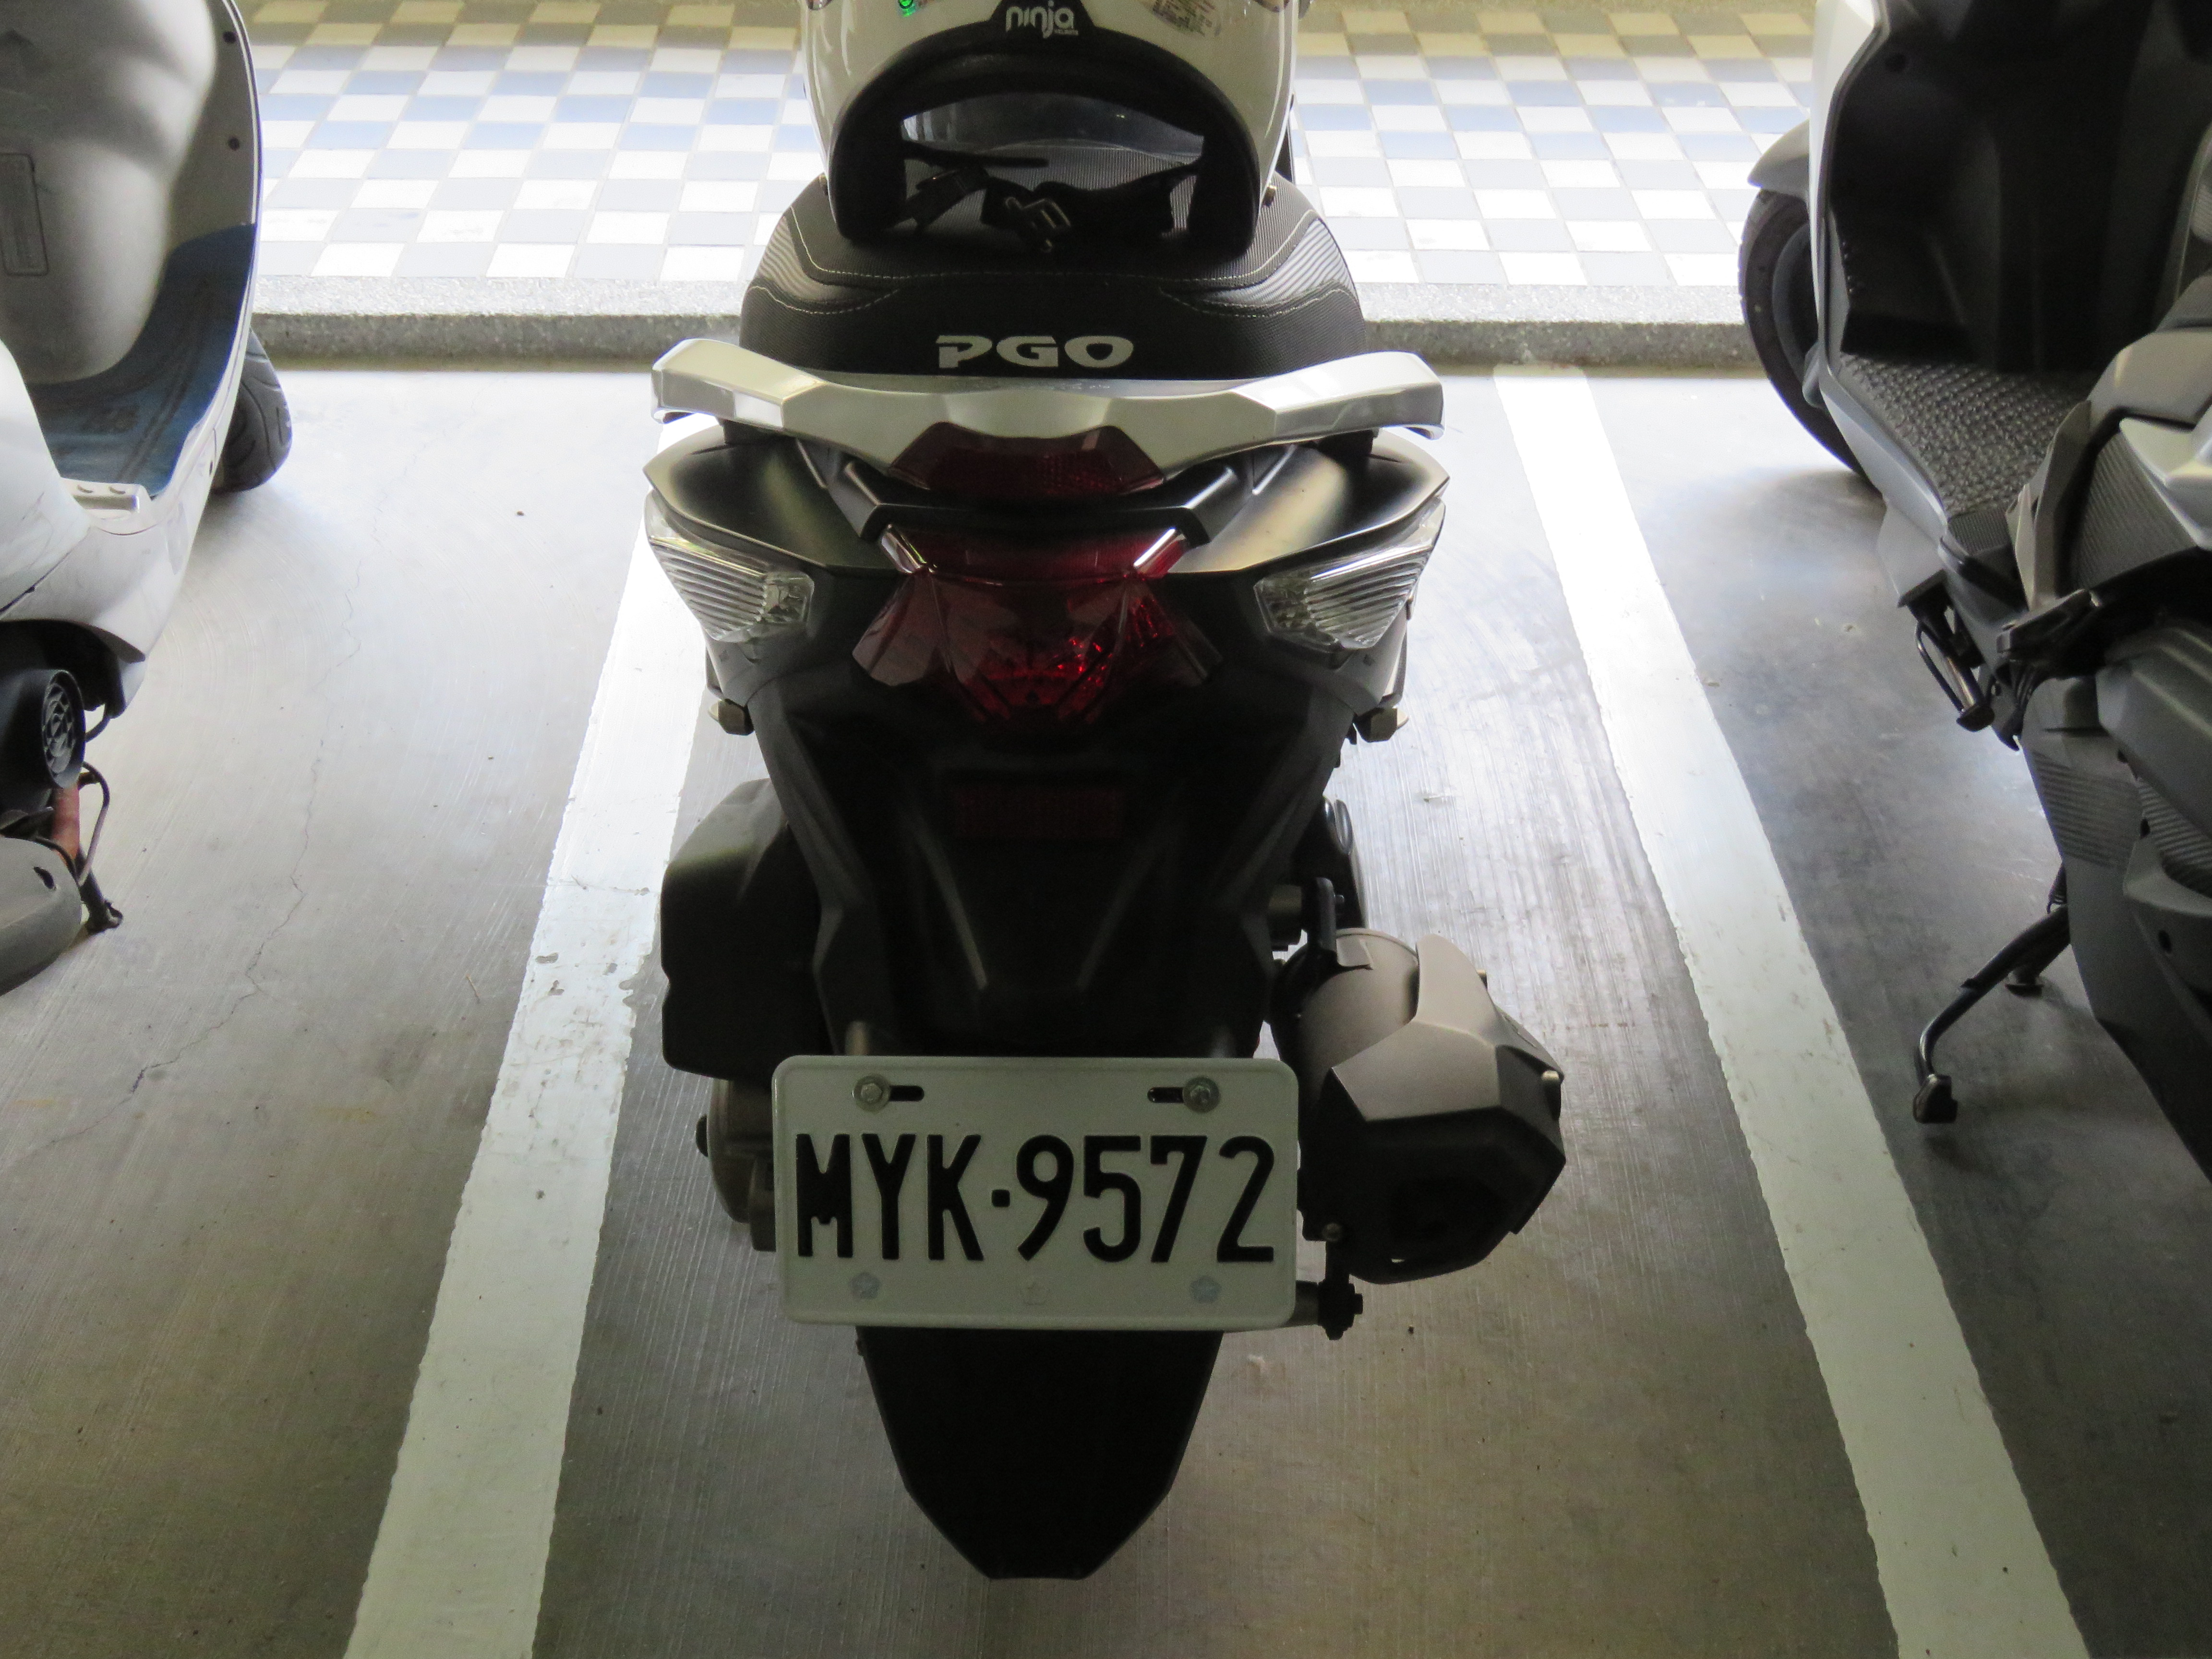car_card: (773, 1070, 1282, 1321)
moto: (634, 0, 1447, 1586)
